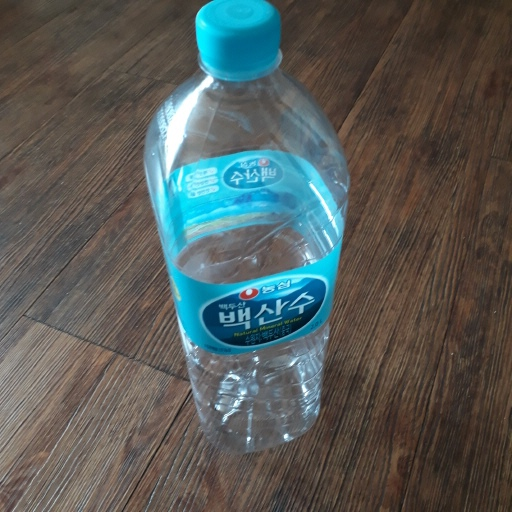Plastic_0: (141, 1, 351, 452)
